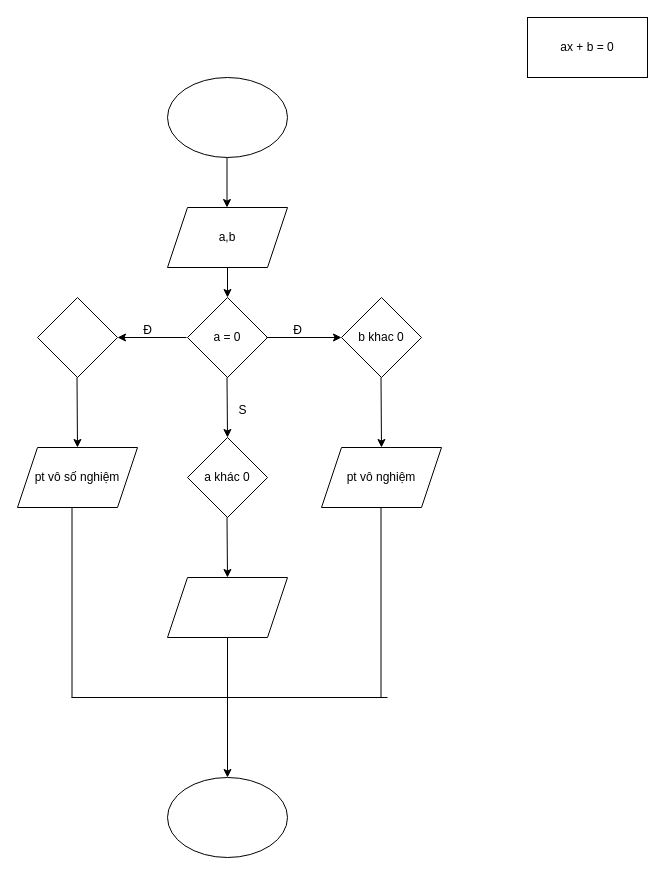
Some shapes in this 665 by 875 pixel diagram are drawn without their labels. Each missing label, with the centre of its shape:
"b = 0" goes at (77,337).
"End" goes at (227,817).
"pt có nghiệm -b/a" goes at (227,607).
"Start" goes at (227,117).
